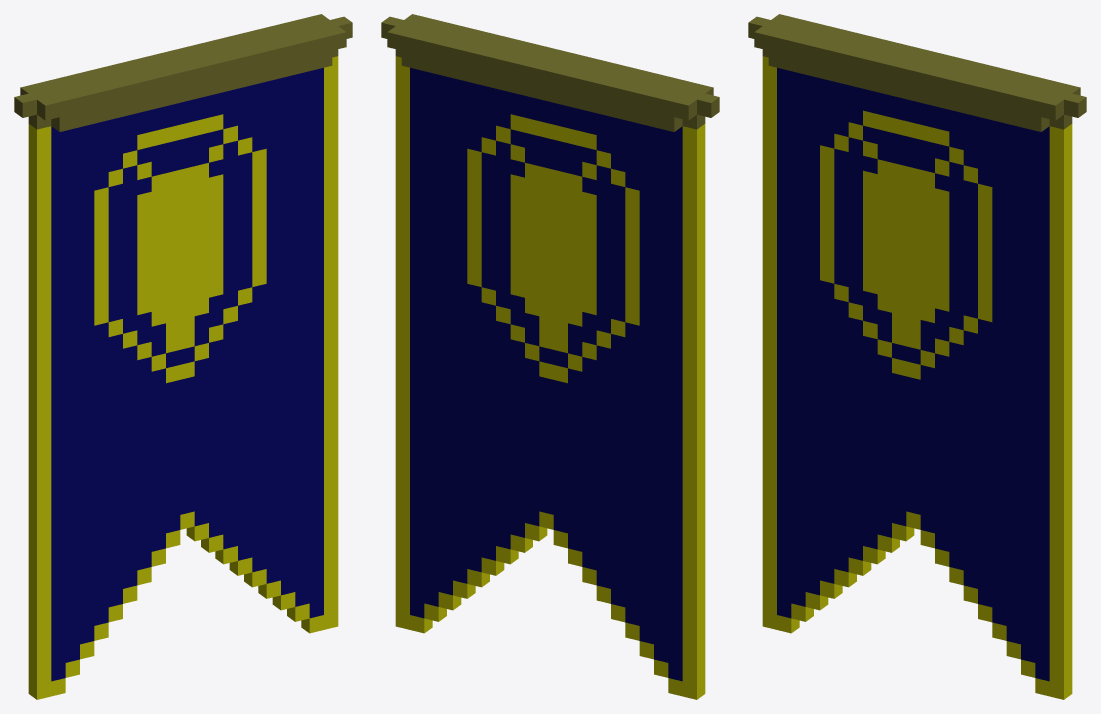
Rendered from banner.obj.
The picture shows the model from 3 angles, left to right: view 1: azimuth 30°, elevation 25°; view 2: azimuth 150°, elevation 25°; view 3: azimuth 330°, elevation 25°; orthographic projection.
Bounding box in the file's own units: 2.3 × 4 × 0.3.
Materials: 1 (1 with a texture image).
